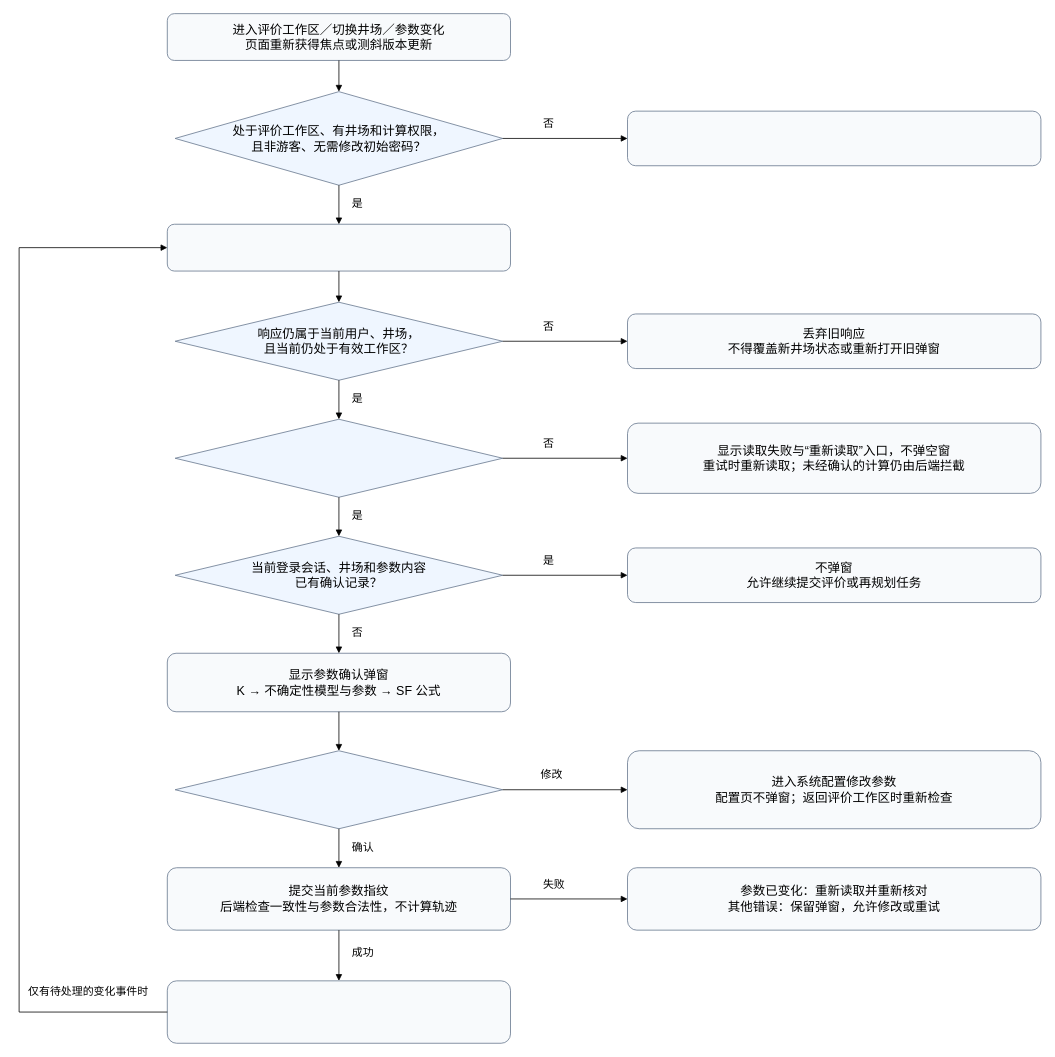
The diagram is 1055 pixels wide and 1057 high, and some of its shapes have lost their labels. The shapes that lost their labels are listed below. From the top down, each one's box as (x1, y1, x2, y2) in pixels, then its label:
(627, 110, 1041, 166): 不弹窗；离开工作区时关闭旧弹窗 资料、配置、系统管理、纯预测页面不触发
(167, 223, 511, 271): 读取服务端确认状态 同一用户、井场的并发检查合并排队
(174, 418, 503, 497): 确认状态读取成功？
(174, 750, 503, 829): 核对后确认，还是修改参数？
(167, 980, 511, 1043): 记录确认并关闭弹窗；无变化则结束 请求期间发生的变化事件必须补查
